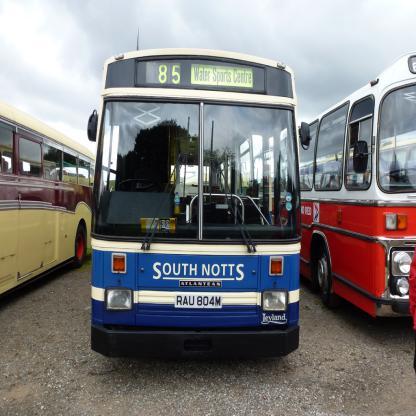Bus: (86, 28, 312, 361), (260, 54, 413, 316), (0, 100, 105, 296)
